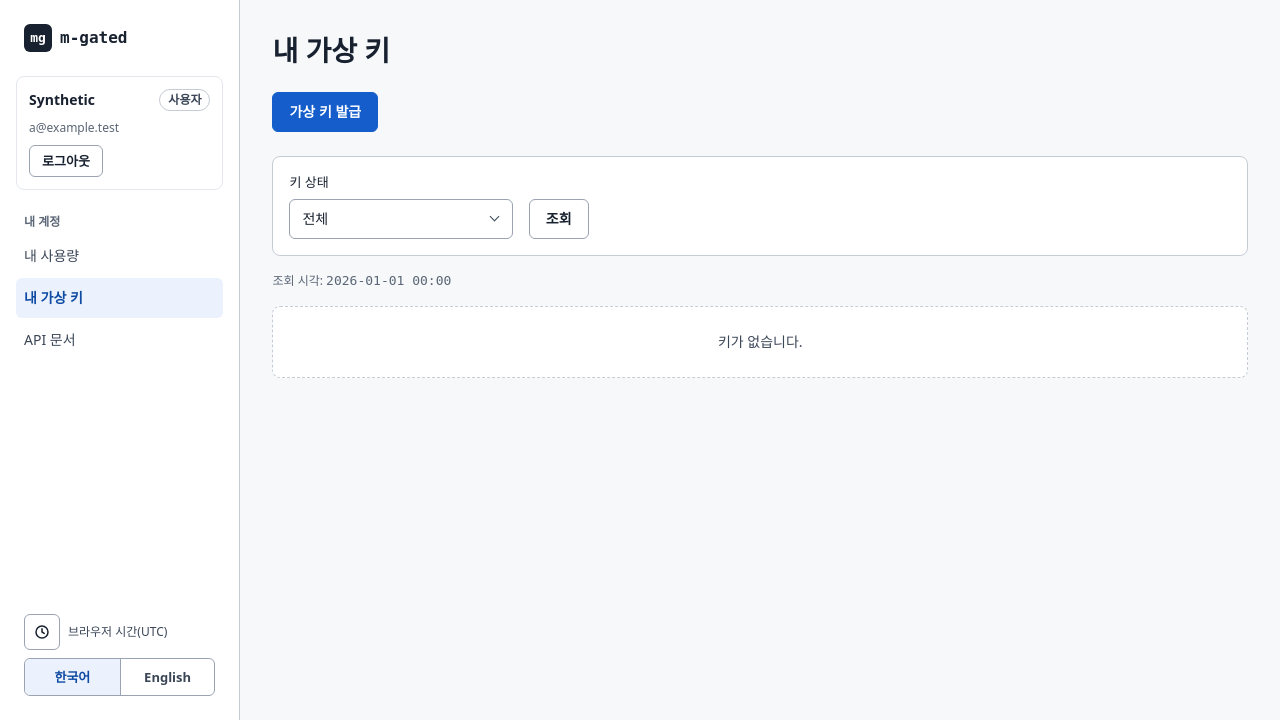
key_list_has_no_issue_form_and_links_to_the_issue_page
Expected: the element named "내 가상 키" is shown, left=272, top=92, right=1248, bottom=378
Expected: the text "키가 없습니다." is shown, left=272, top=306, right=1248, bottom=378
Click the link "가상 키 발급": (325, 112) left=272, top=92, right=378, bottom=132
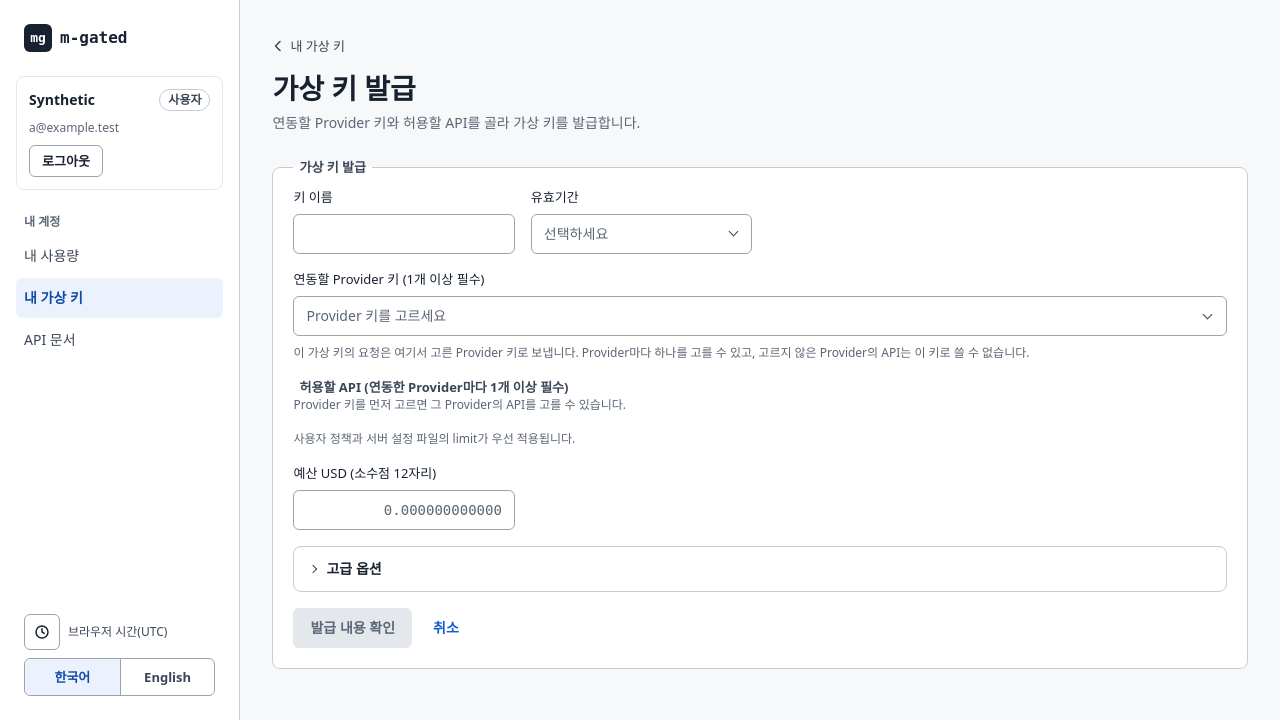
Expected: the form "가상 키 발급" is shown, left=272, top=158, right=1248, bottom=669
Expected: the text "키가 없습니다." is gone
Click the link "취소": (446, 628) left=433, top=618, right=459, bottom=637
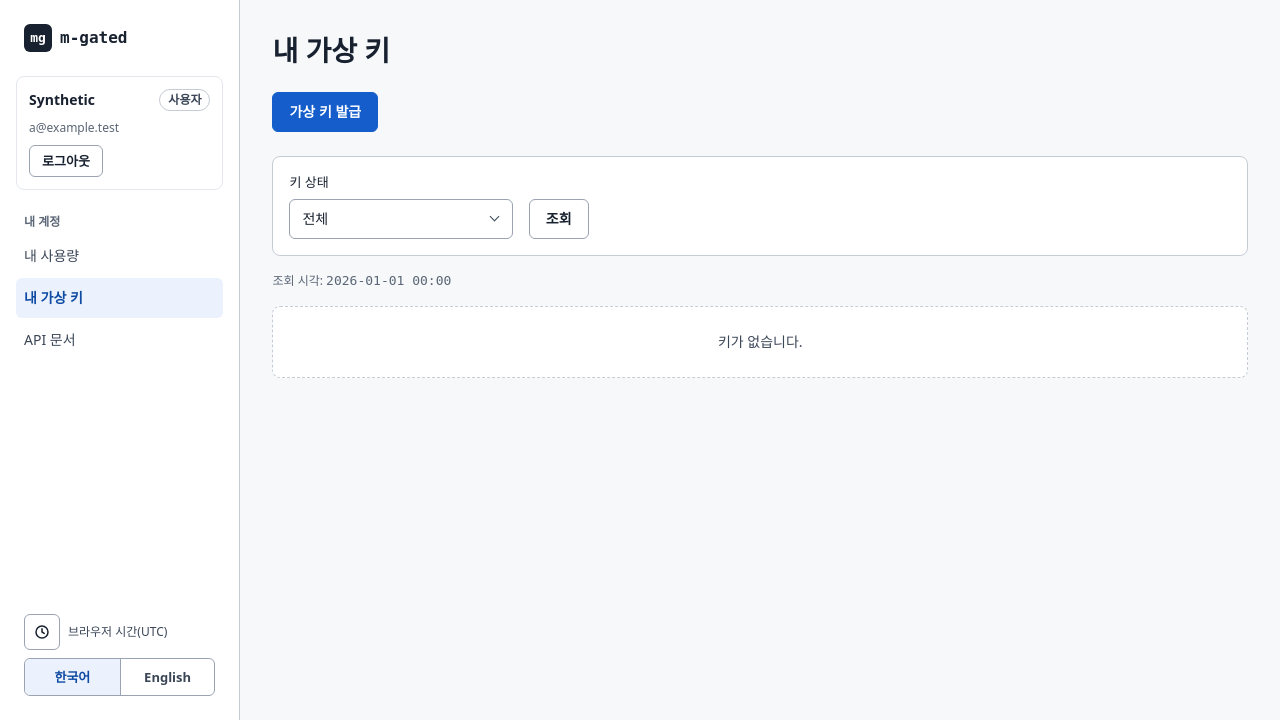
Expected: the element named "내 가상 키" is shown, left=272, top=92, right=1248, bottom=378
